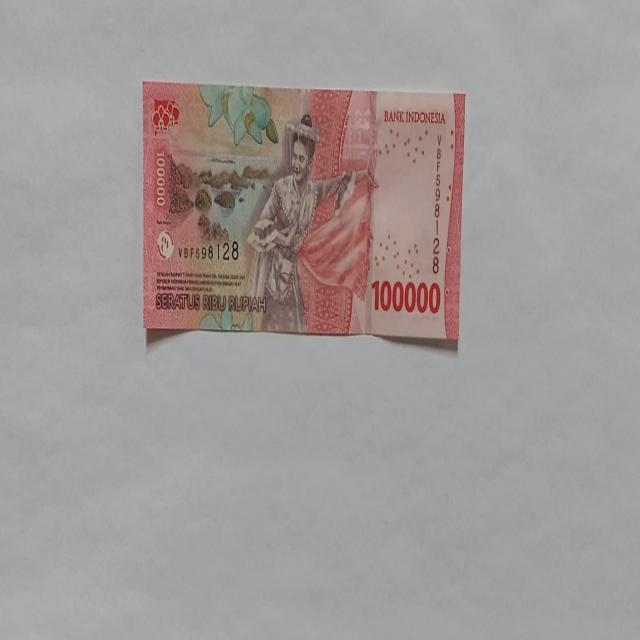seratus ribu rupiah: (142, 82, 466, 346), (244, 112, 358, 334)
